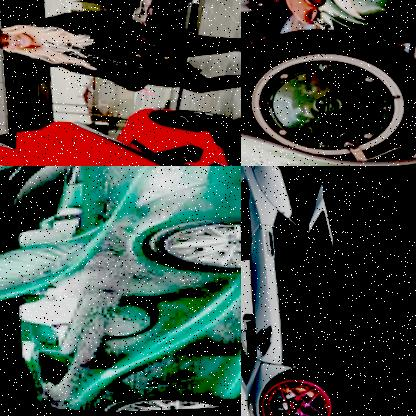bike: (241, 0, 416, 166)
car: (0, 166, 241, 416), (241, 166, 359, 416), (0, 82, 241, 166)
